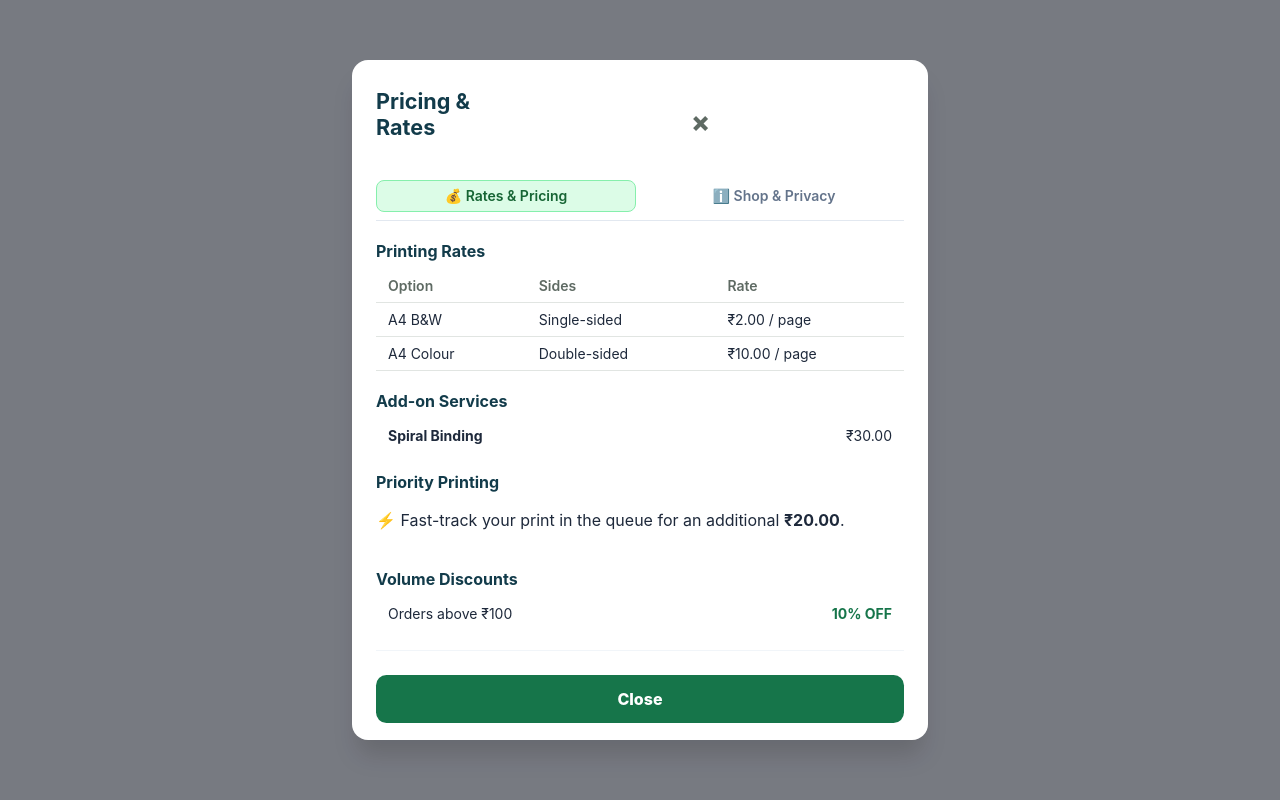
Test: Customer Components & Helpers › PricingModal › switches to shop and privacy tab and displays details
The width and height of the screenshot is (1280, 800).
Click the tab "ℹ️ Shop & Privacy": (774, 196) [644,180,904,212]
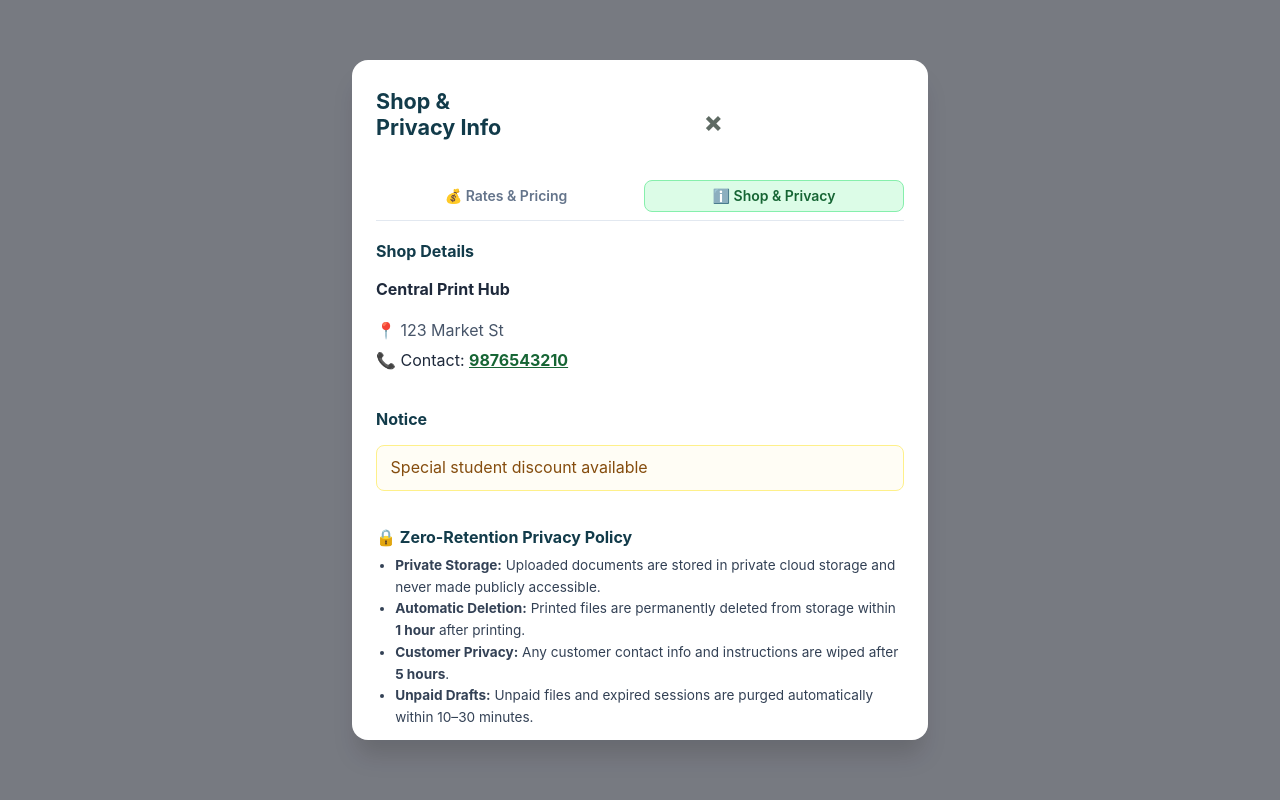
Expected: the text "Central Print Hub" is shown, [376,279,510,299]
Expected: the text "📍 123 Market St" is shown, [376,320,504,340]
Expected: the link "9876543210" is shown, [469,350,568,370]
